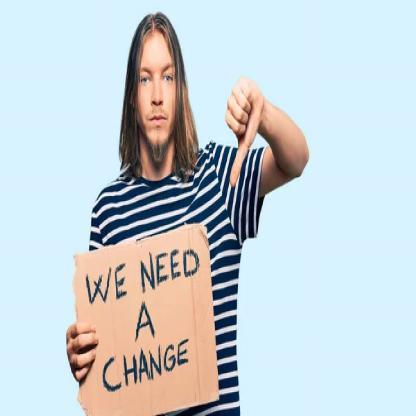thumb_down: (225, 70, 264, 191)
